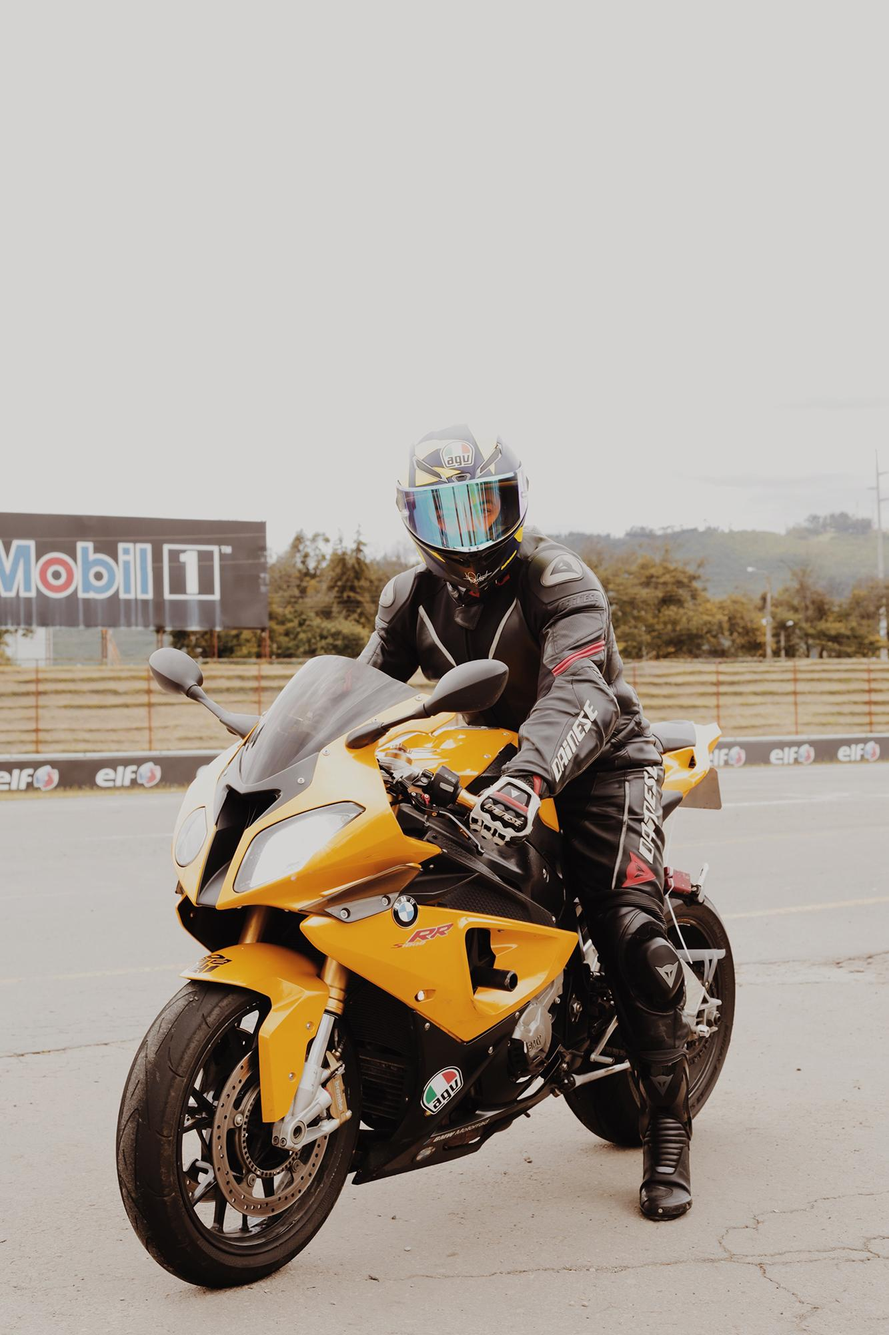helmet: (395, 421, 530, 595)
